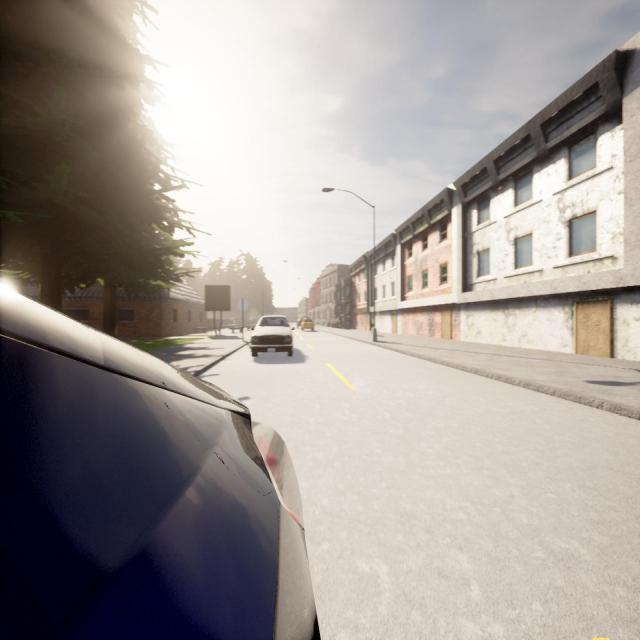Traffic_Signs: (238, 298, 248, 312)
Vehicle: (0, 286, 318, 638), (251, 315, 295, 357), (297, 314, 309, 329), (301, 319, 315, 331)
